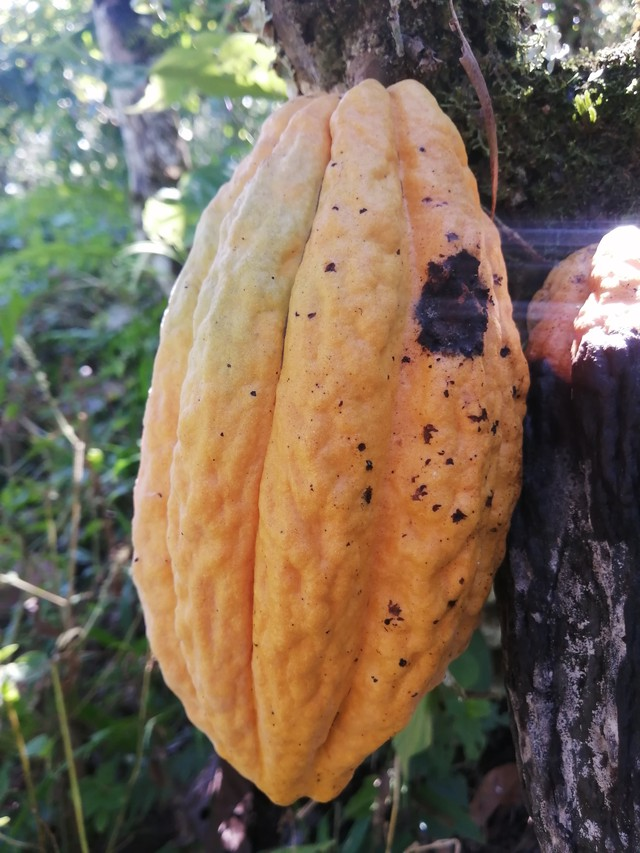moniliophthora perniciosa: (106, 69, 552, 814)
